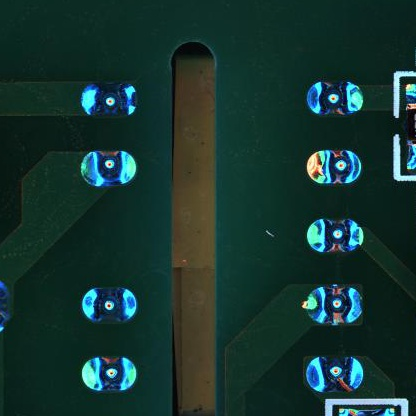spot: (303, 284, 365, 327), (80, 81, 141, 119), (305, 355, 365, 392), (80, 151, 138, 188), (80, 356, 139, 391), (81, 287, 138, 323), (305, 81, 363, 116), (304, 219, 364, 251), (307, 150, 362, 184)
